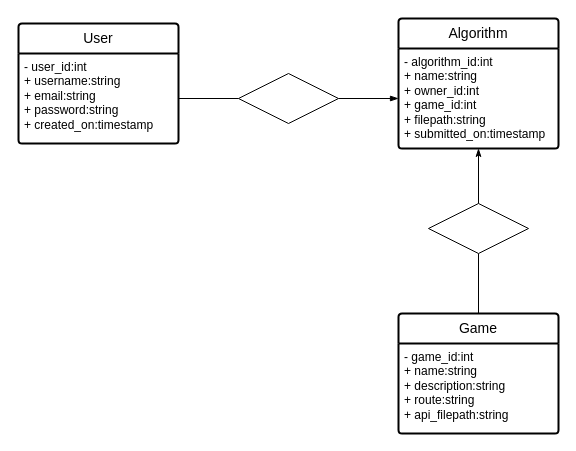
This 576x451 diagram has some shape labels left out. The centre of each missing label's shape, as x and y in pixels:
Belongs to: [478,228]
Creates: [288,98]
